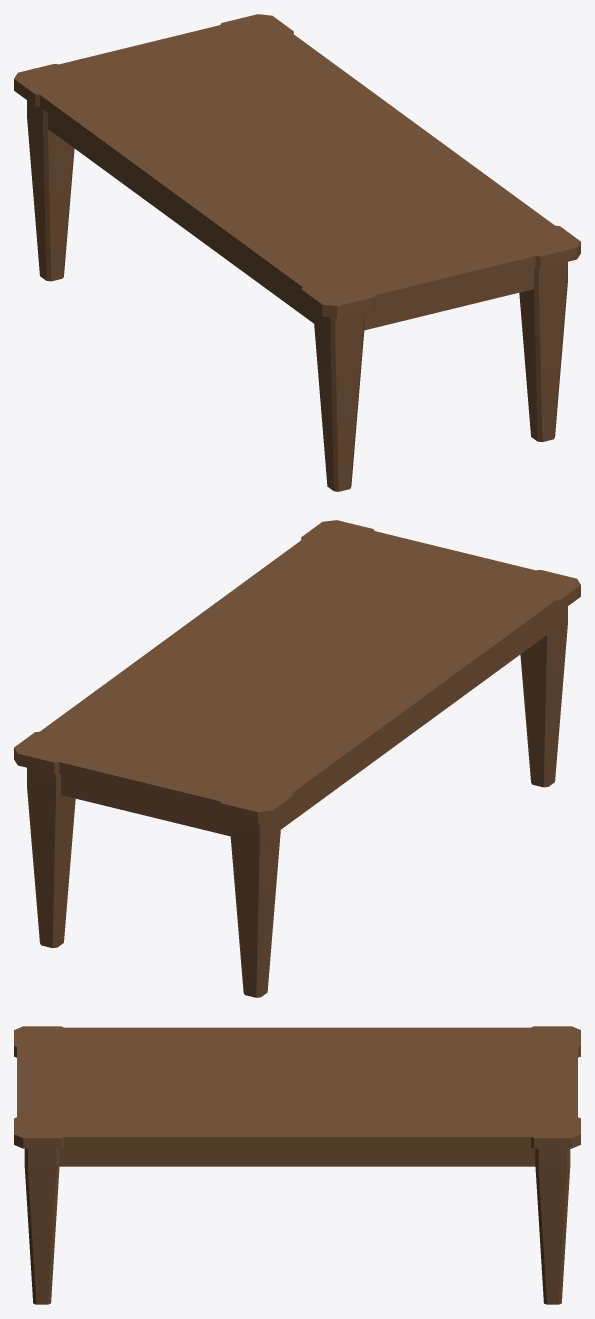
Rendered from Dining_Table.fbx.
3 views of the same model, one above another, from view 1: azimuth 30°, elevation 25°; view 2: azimuth 150°, elevation 25°; view 3: azimuth 270°, elevation 25° (orthographic). The views are drawn at different scales.
Parts seen in each view (by area): view 1: Dining_Table; view 2: Dining_Table; view 3: Dining_Table.
Part boxes in pixels (left/top/right/bottom): Dining_Table: left=14, top=14, right=580, bottom=491; Dining_Table: left=14, top=520, right=580, bottom=997; Dining_Table: left=14, top=1026, right=580, bottom=1304.
Size of the model in its own units: 114 by 83 by 244.
Materials: 1 (1 with a texture image).
